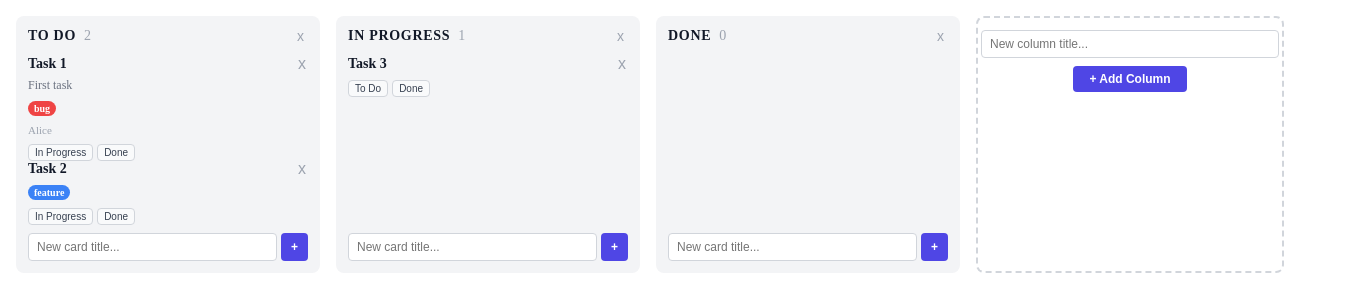
KanbanBoard › adds a new column on Enter key press
Type "QA" into the field labelled "New column title".
click(1130, 44); type("QA")  # box [981,30,1279,58]
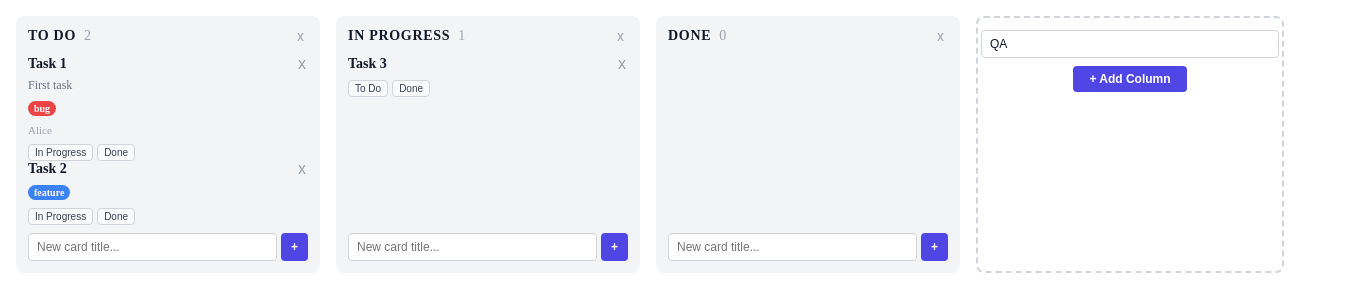
Press Enter in the field named "New column title", box [981,30,1279,58]
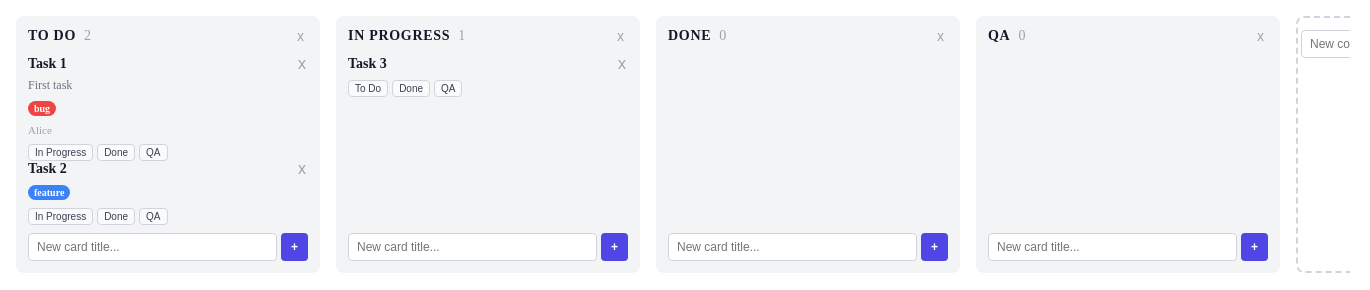
Now the list named "Column: QA" is shown, box [976,16,1280,273]
